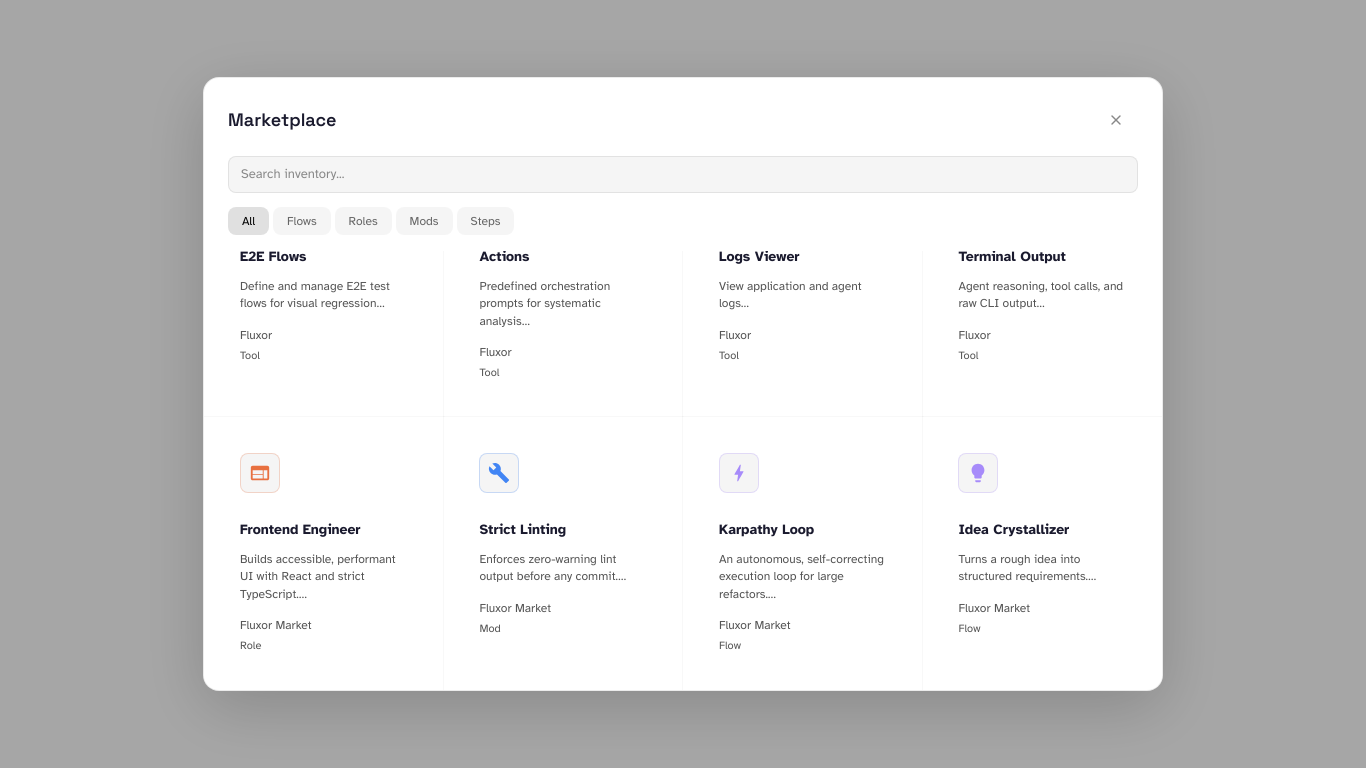
Test: MarketplaceApp — card click opens the product sheet › shows flow metadata (betterOn / cost / recommendedComplexity)
This screenshot has width=1366, height=768.
(page scrolled)
Click the button with aria-label "View details for Karpathy Loop — Flow by Fluxor Market".
click(803, 554)  # box x1=683 y1=417 x2=922 y2=690
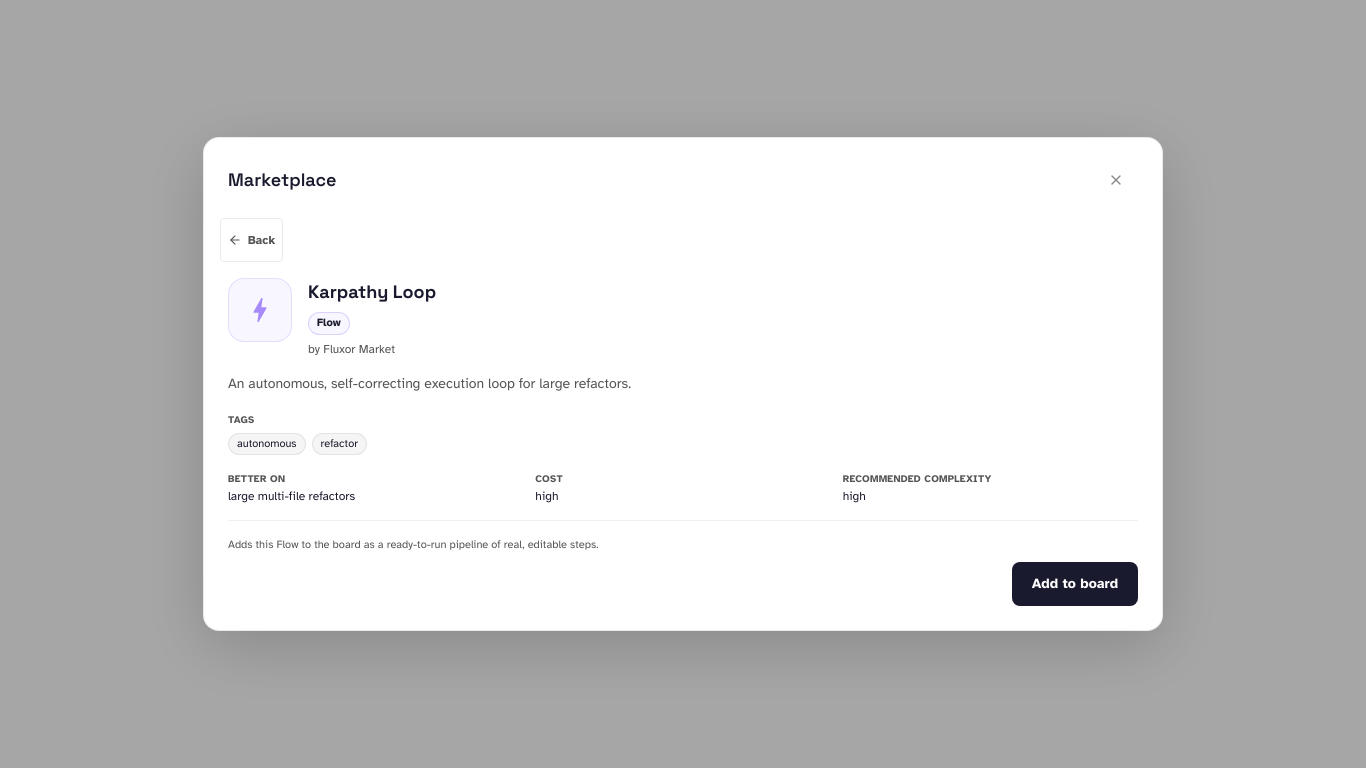
Check: the text "large multi-file refactors" is shown, box x1=228 y1=489 x2=355 y2=503
Check: the text "high" is shown 2 times, box x1=535 y1=489 x2=558 y2=503; x1=843 y1=489 x2=866 y2=503
